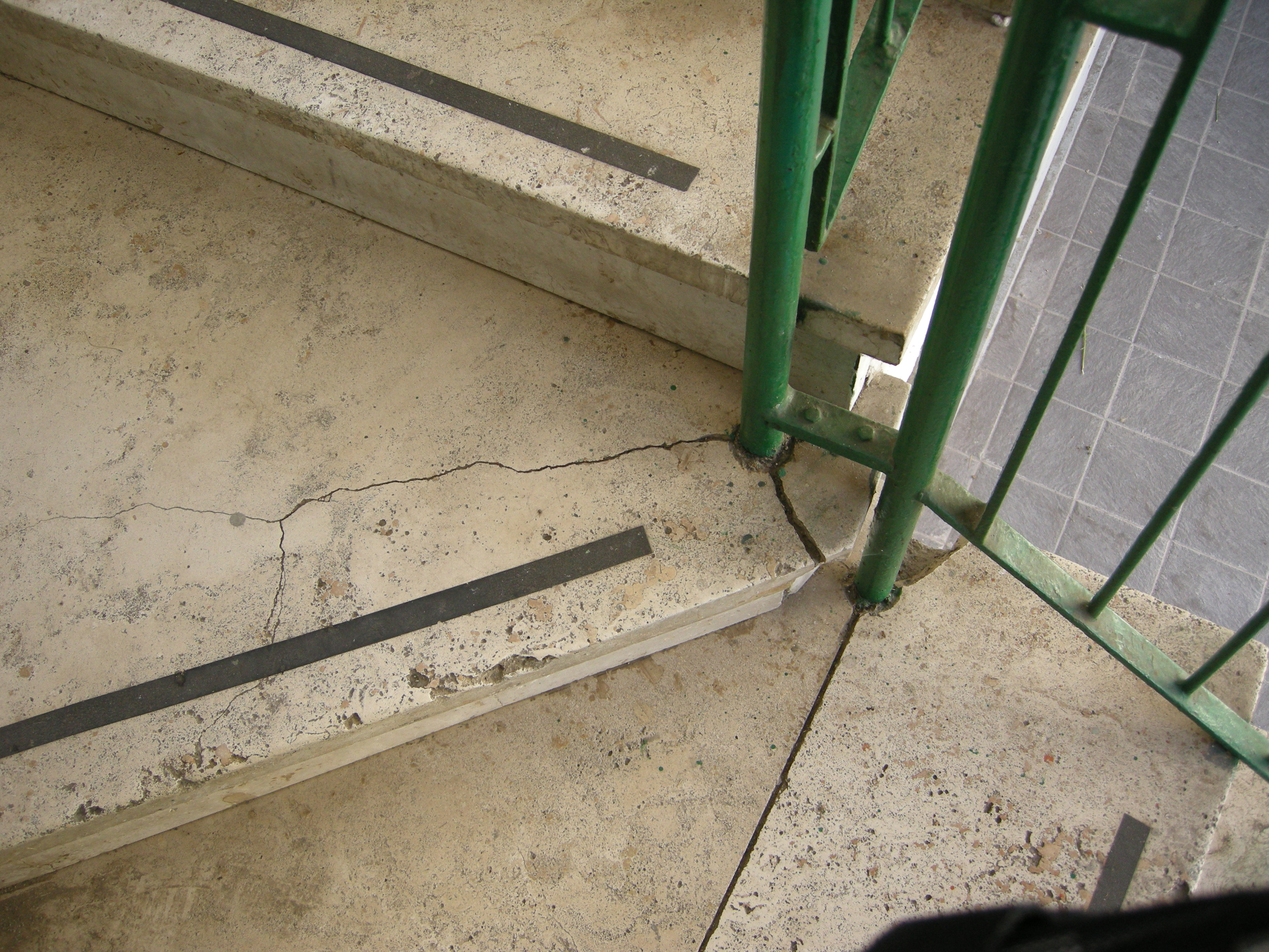Crack: (18, 426, 842, 644)
